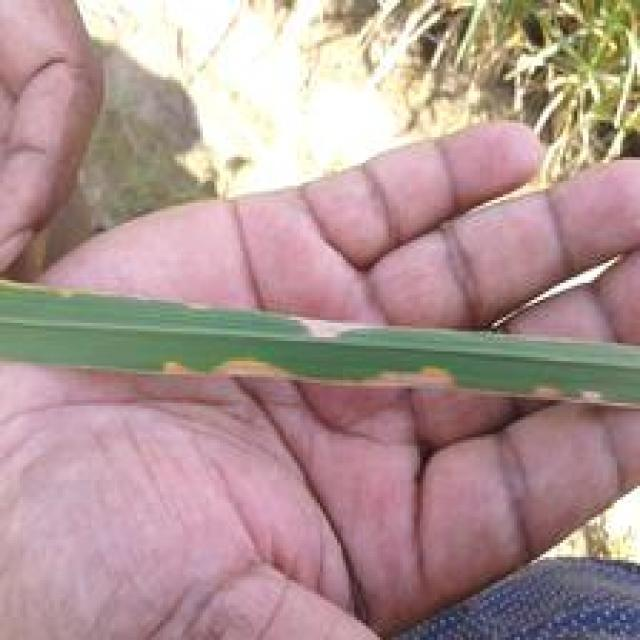Rice_Bacterial_Blight: (9, 262, 428, 352), (137, 340, 606, 417)
